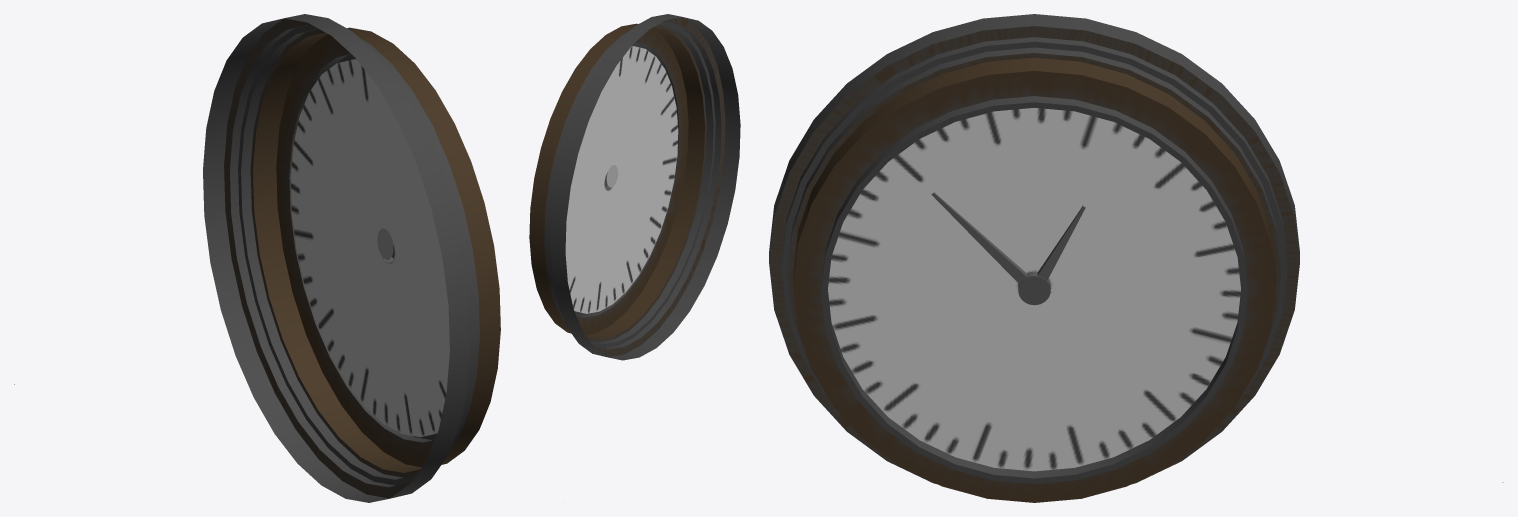
The model's file is Horloge.fbx.
3 views of the same model, side by side, from view 1: azimuth 30°, elevation 25°; view 2: azimuth 150°, elevation 25°; view 3: azimuth 270°, elevation 25° (orthographic). The views are drawn at different scales.
Visible parts, largest first — view 1: Horloge; view 2: Horloge; view 3: Horloge.
Boxes of the visible parts, <box> form: Horloge: <box>14,14,500,502</box>; Horloge: <box>529,14,740,360</box>; Horloge: <box>769,14,1503,502</box>.
Bounding box in the file's own units: 15.79 × 42.7 × 54.65.
1 material, 1 textured.
